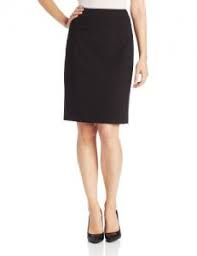F_tailored skirt: (55, 6, 140, 125)
